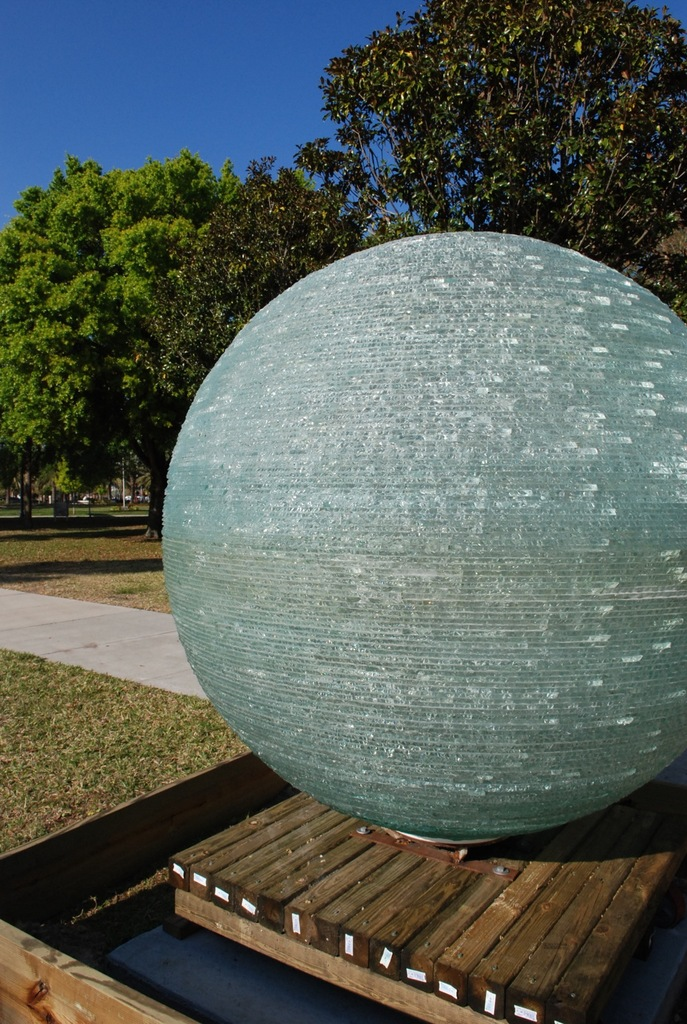Ball: (157, 225, 686, 831)
